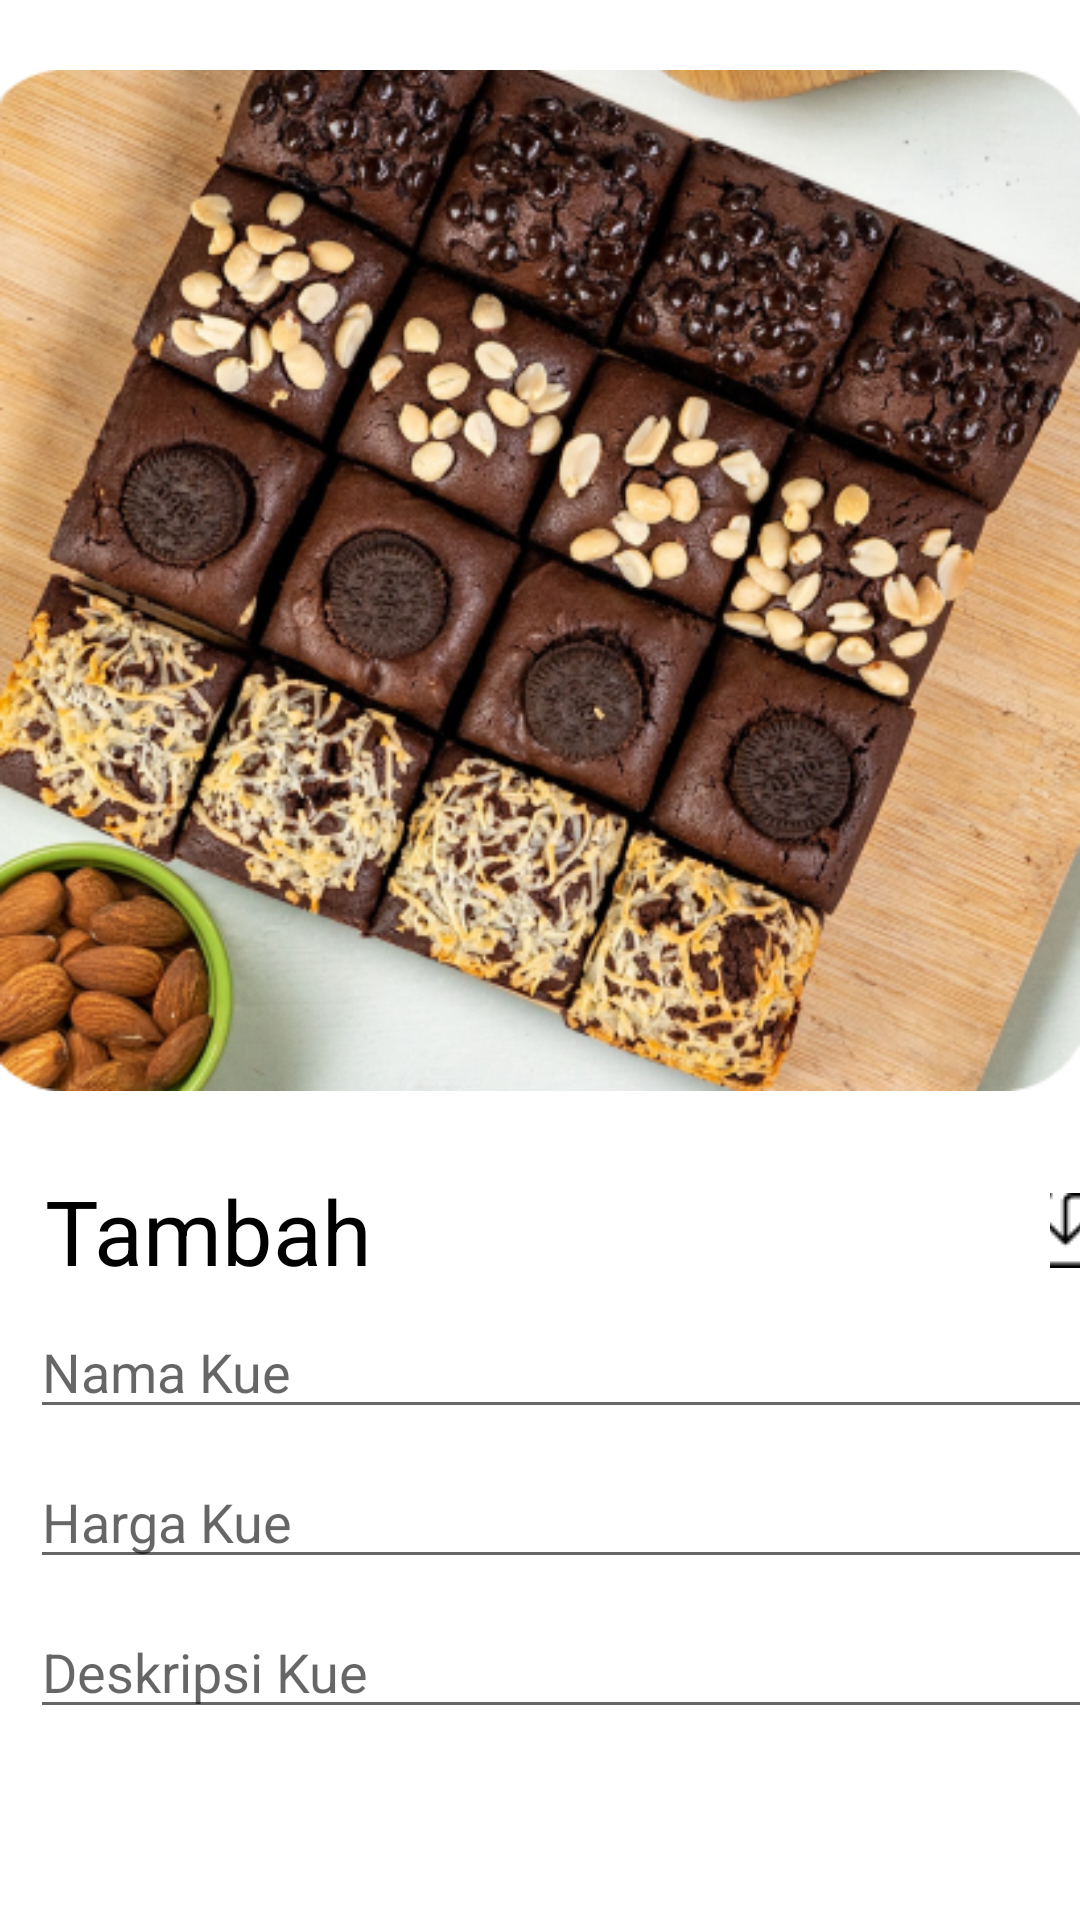

Named icons in this screenshot (1080×1920) and their centers, point (x, y):
simpan: point (1065, 1230)
